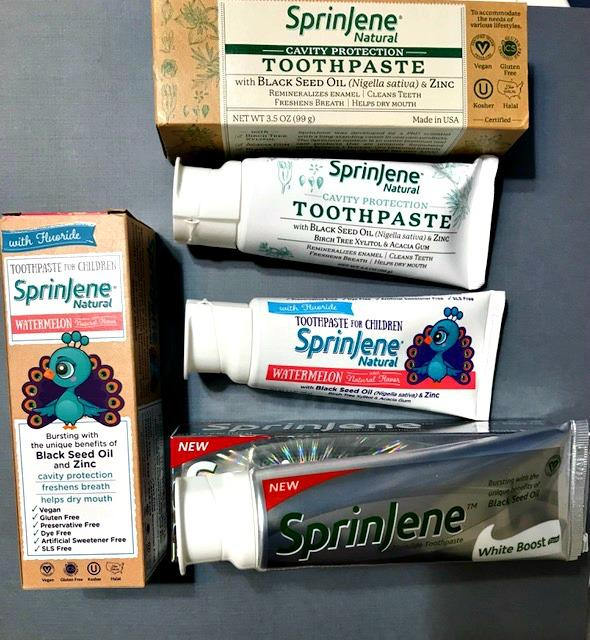toothpaste: (169, 433, 590, 573), (176, 285, 506, 418), (155, 153, 496, 281)
